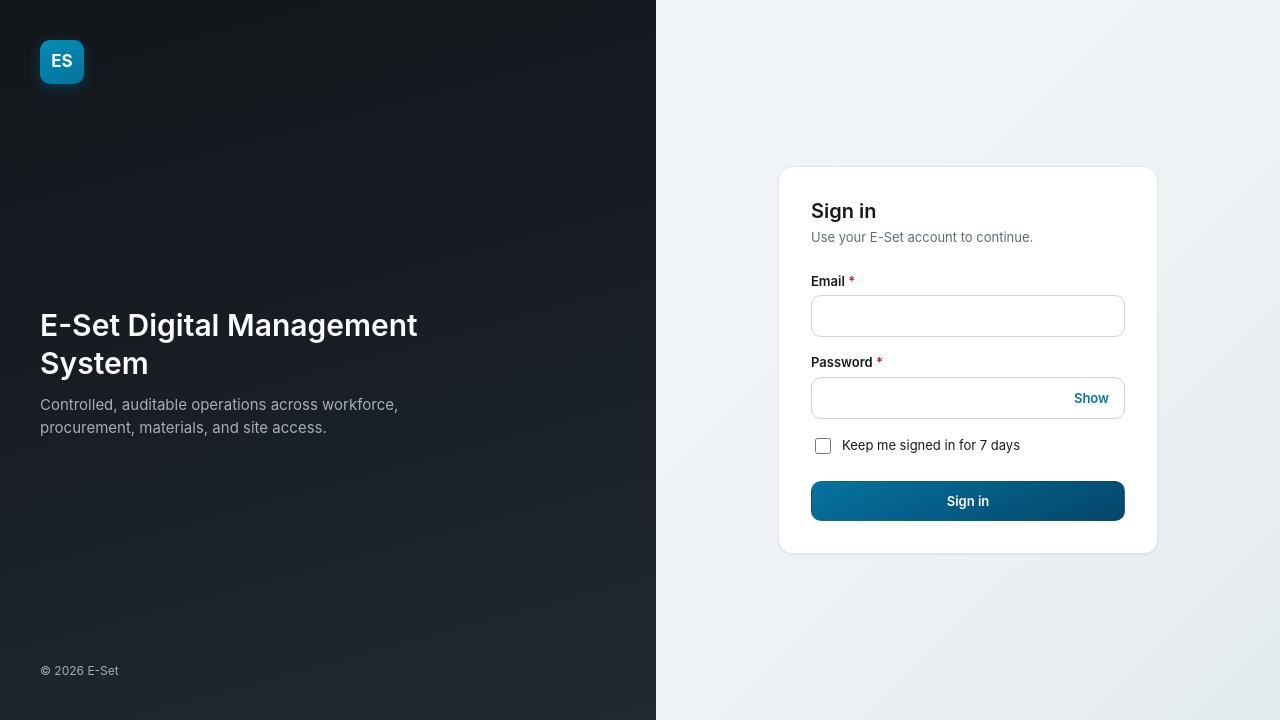
LoginPage — existing login behavior preserved › a failed login (ApiError) surfaces the message and does not crash
The width and height of the screenshot is (1280, 720).
Type "user@test.eset.local" into the field labelled "Email *" at (968,316), box [811,295,1125,337]
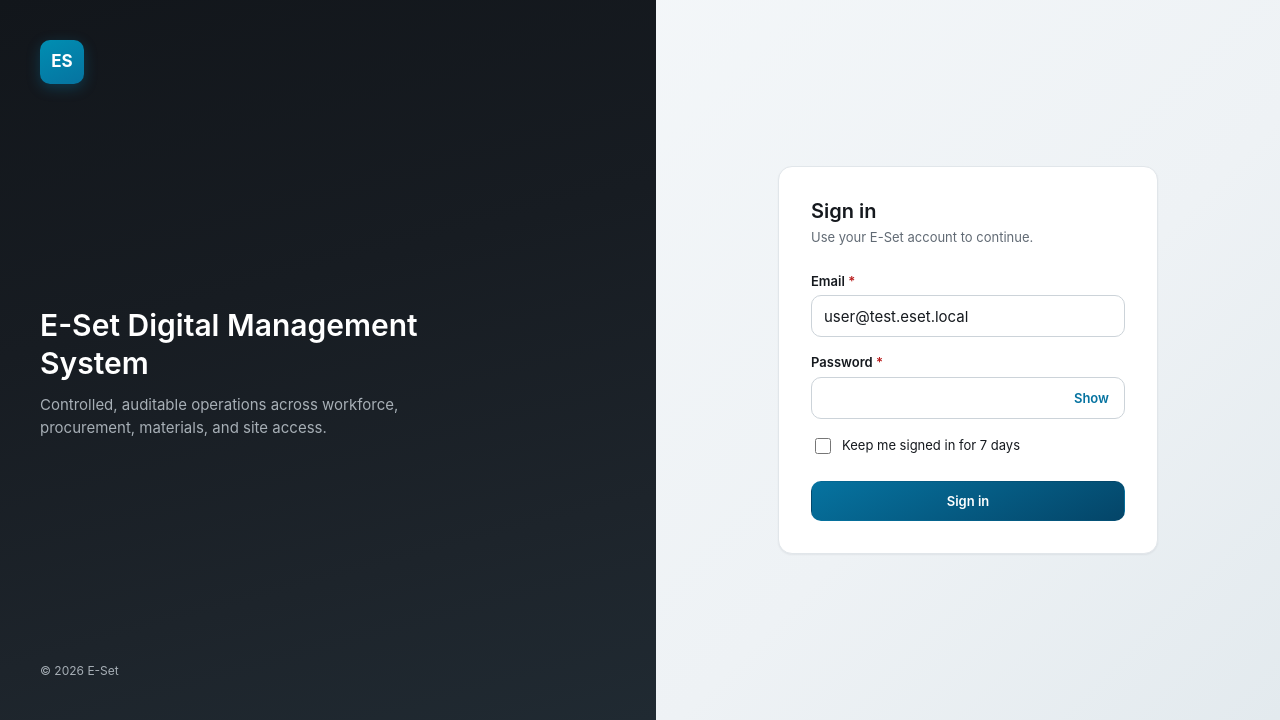
Type "wrong" into the password field labelled "Password *" at (968,398), box [811,377,1125,419]
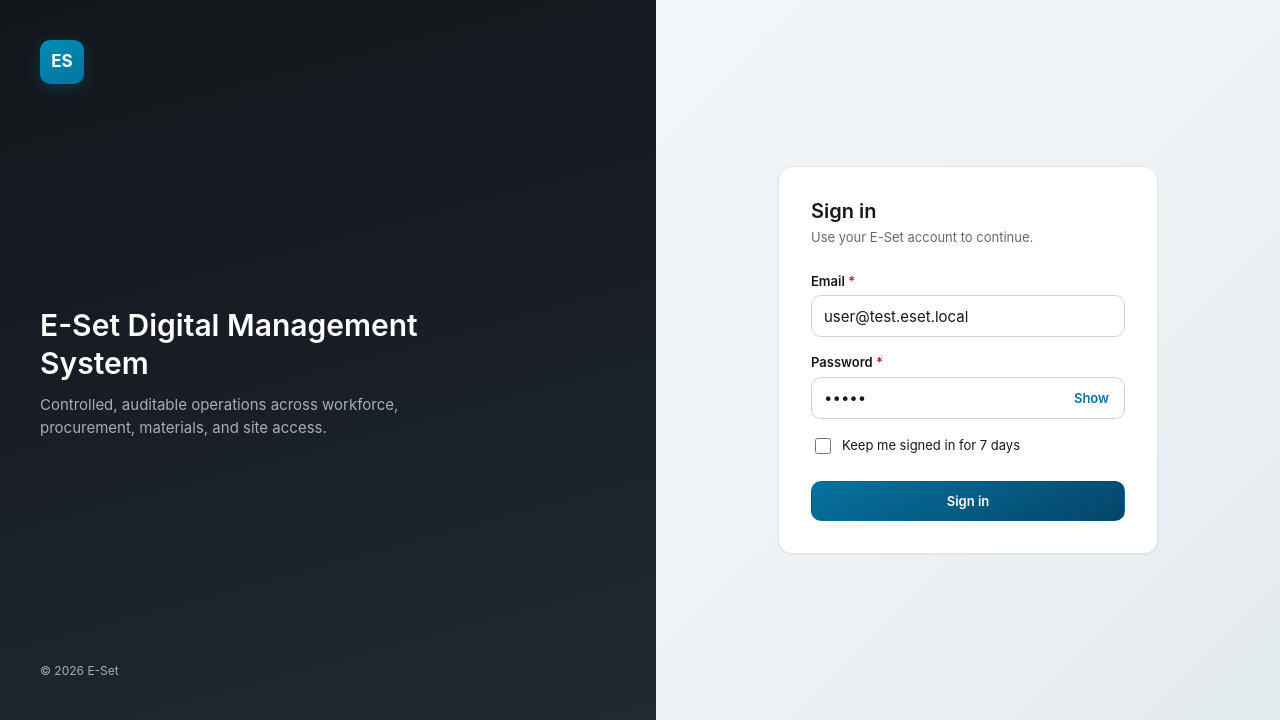
Click the button "Sign in" at (968,501), box [811,481,1125,521]
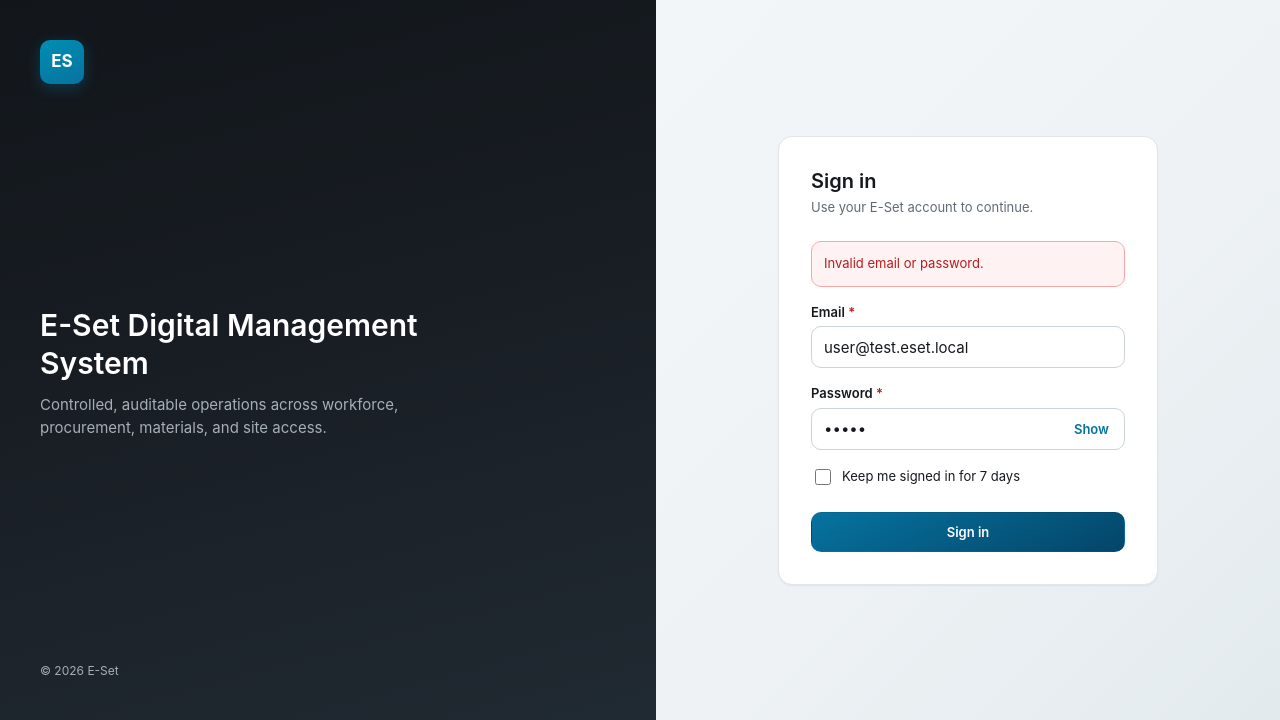
Result: the message shows "Invalid email or password" at [824,255,984,271]
